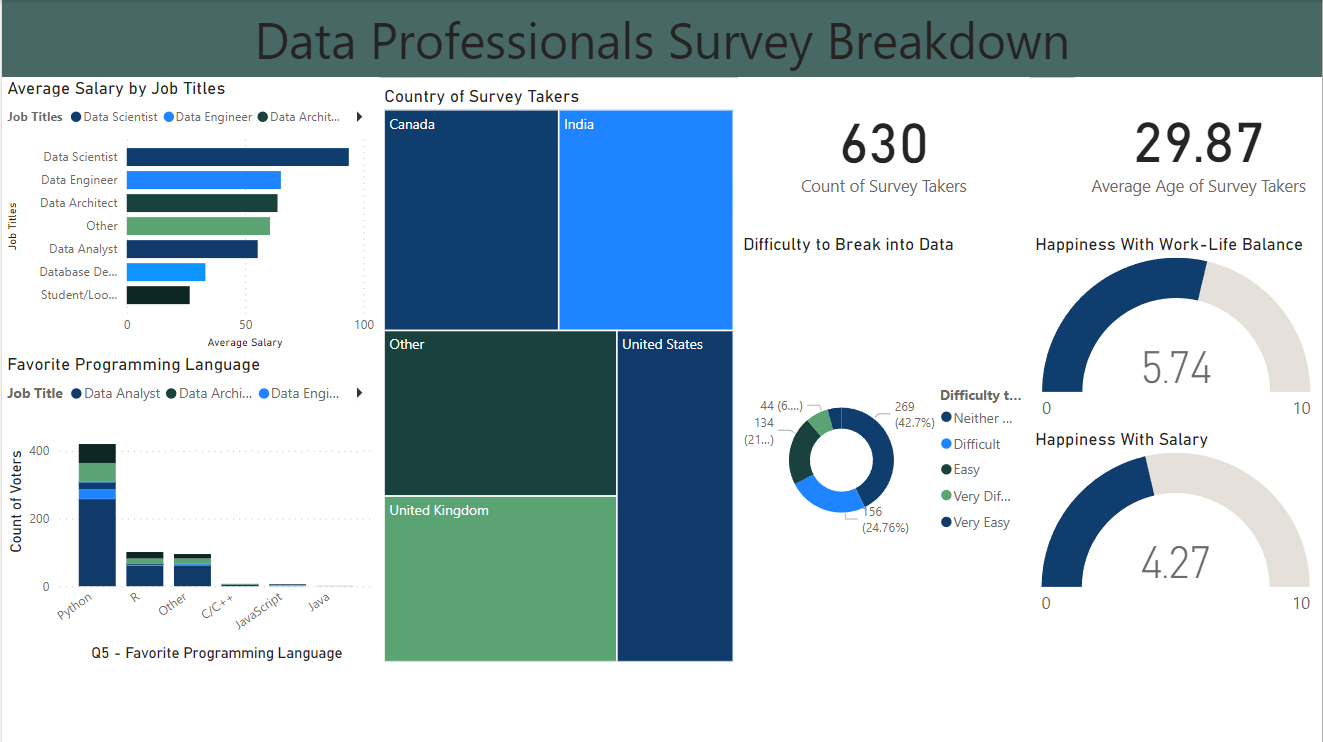

The dashboard page shown, as its layout file describes it:
{"tool":"powerbi","page":{"name":"Page 1","canvas":[1280,720],"ordinal":0},"visuals":[{"type":"textbox","box":[0,0,1280,74.9],"z":0},{"type":"card","fields":{"Values":["Count(Data Professional Survey.Unique ID)"]},"box":[713.8,74.8,282.6,134.9],"z":1000},{"type":"card","fields":{"Values":["Avg(Data Professional Survey.Q10 - Current Age)"]},"box":[1040.5,74.7,239.5,134.8],"z":2000},{"type":"barChart","title":"Average Salary by Job Titles","fields":{"Category":["Data Professional Survey.Q1 - Which Title Best Fits your Current Role?.1"],"Y":["Avg(Data Professional Survey.Average Salary.1)"],"Series":["Data Professional Survey.Q1 - Which Title Best Fits your Current Role?.1"]},"box":[0,74.7,365.6,267.6],"z":3000},{"type":"columnChart","title":"Favorite Programming Language","fields":{"Category":["Data Professional Survey.Q5 - Favorite Programming Language.1"],"Y":["CountNonNull(Data Professional Survey.Unique ID)"],"Series":["Data Professional Survey.Q1 - Which Title Best Fits your Current Role?.1"]},"box":[0,342.3,365.6,304.5],"z":4000},{"type":"treemap","title":"Country of Survey Takers","fields":{"Group":["Data Professional Survey.Q11 - Which Country do you live in?.1"],"Values":["Count(Data Professional Survey.Q11 - Which Country do you live in?.1)"]},"box":[365.3,82.7,348.6,564.2],"z":5000},{"type":"gauge","title":"Happiness With Work-Life Balance","fields":{"Y":["Avg(Data Professional Survey.Q6 - How Happy are you in your Current Position with the following? (Work/Life Balance))"],"MinValue":["Min(Data Professional Survey.Q6 - How Happy are you in your Current Position with the following? (Work/Life Balance))1"],"MaxValue":["Max(Data Professional Survey.Q6 - How Happy are you in your Current Position with the following? (Work/Life Balance))2"]},"box":[996.4,225.5,283.6,190],"z":6000},{"type":"gauge","title":"Happiness With Salary","fields":{"Y":["Avg(Data Professional Survey.Q6 - How Happy are you in your Current Position with the following? (Salary))"],"MaxValue":["Max(Data Professional Survey.Q6 - How Happy are you in your Current Position with the following? (Salary))"],"MinValue":["Min(Data Professional Survey.Q6 - How Happy are you in your Current Position with the following? (Salary))1"]},"box":[996.4,415.5,282.6,190],"z":7000},{"type":"donutChart","title":"Difficulty to Break into Data","fields":{"Category":["Data Professional Survey.Q7 - How difficult was it for you to break into Data?"],"Y":["CountNonNull(Data Professional Survey.Q7 - How difficult was it for you to break into Data?)"]},"box":[713.8,225.5,282.6,421.4],"z":8000}]}

Visuals, with their boxes in screenshot pixels (x1, y1, x2, y2), scaled from the page's 1280x720 canvas onto the 1323x742 screenshot:
textbox: (0,0,1322,77)
card - Count(Data Professional Survey.Unique ID): (738,77,1030,216)
card - Avg(Data Professional Survey.Q10 - Current Age): (1075,77,1322,216)
"Average Salary by Job Titles" barChart: (0,77,378,353)
"Favorite Programming Language" columnChart: (0,353,378,667)
"Country of Survey Takers" treemap: (378,85,738,667)
"Happiness With Work-Life Balance" gauge: (1030,232,1322,428)
"Happiness With Salary" gauge: (1030,428,1322,624)
"Difficulty to Break into Data" donutChart: (738,232,1030,667)
